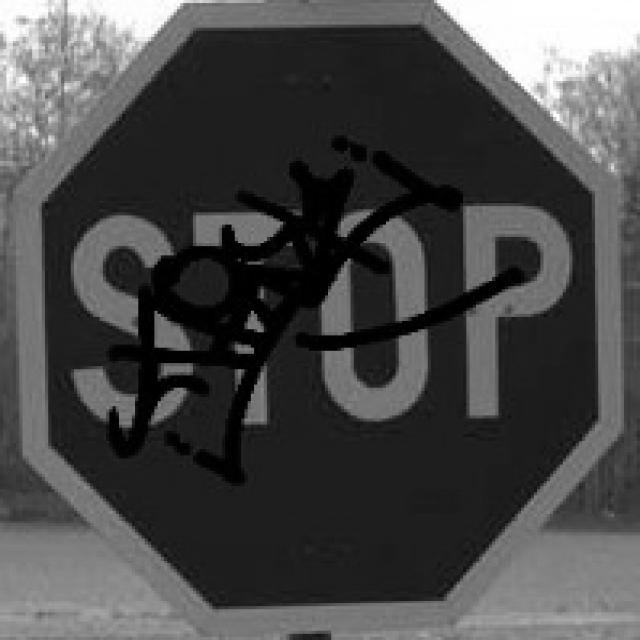stop: (8, 1, 625, 636)
